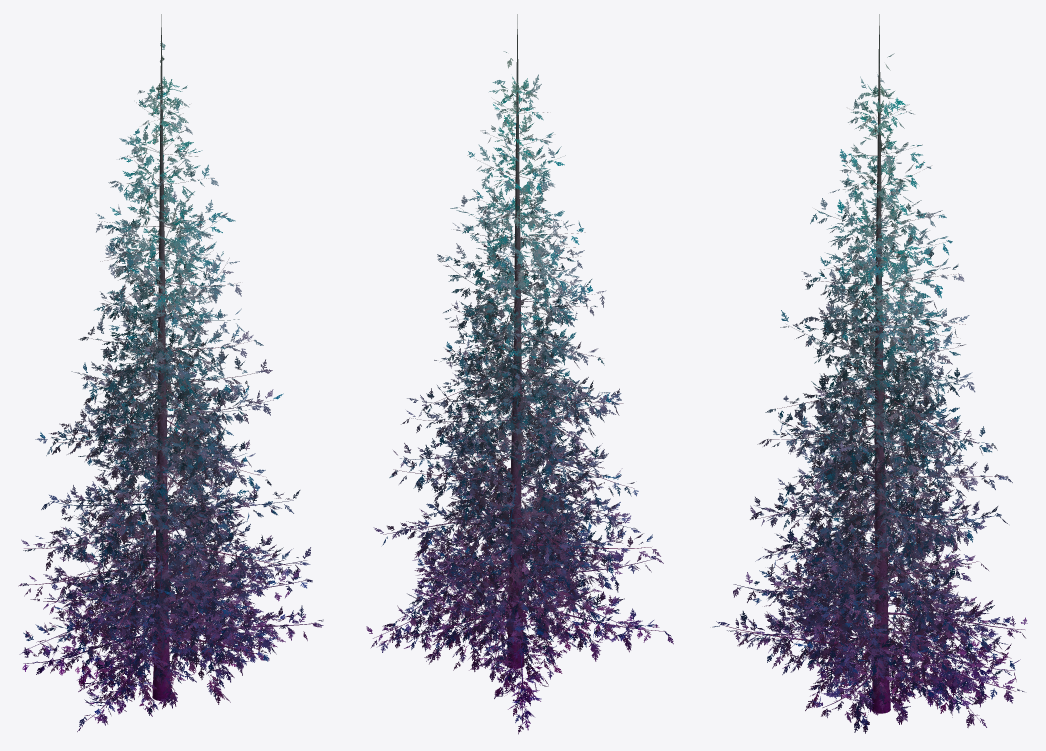
The model's file is asset.glb.
3 views of the same model, side by side, from view 1: azimuth 30°, elevation 25°; view 2: azimuth 150°, elevation 25°; view 3: azimuth 270°, elevation 25° (orthographic). The views are drawn at different scales.
Visible parts, largest first — view 1: blue_spruce_LOD0; view 2: blue_spruce_LOD0; view 3: blue_spruce_LOD0.
Part boxes in pixels (<box>): blue_spruce_LOD0: <box>18,14,323,731</box>; blue_spruce_LOD0: <box>366,14,673,734</box>; blue_spruce_LOD0: <box>712,14,1027,733</box>.
Size of the model in its own units: 9.91 by 24.08 by 9.87.
Materials: 2 (2 with a texture image).
